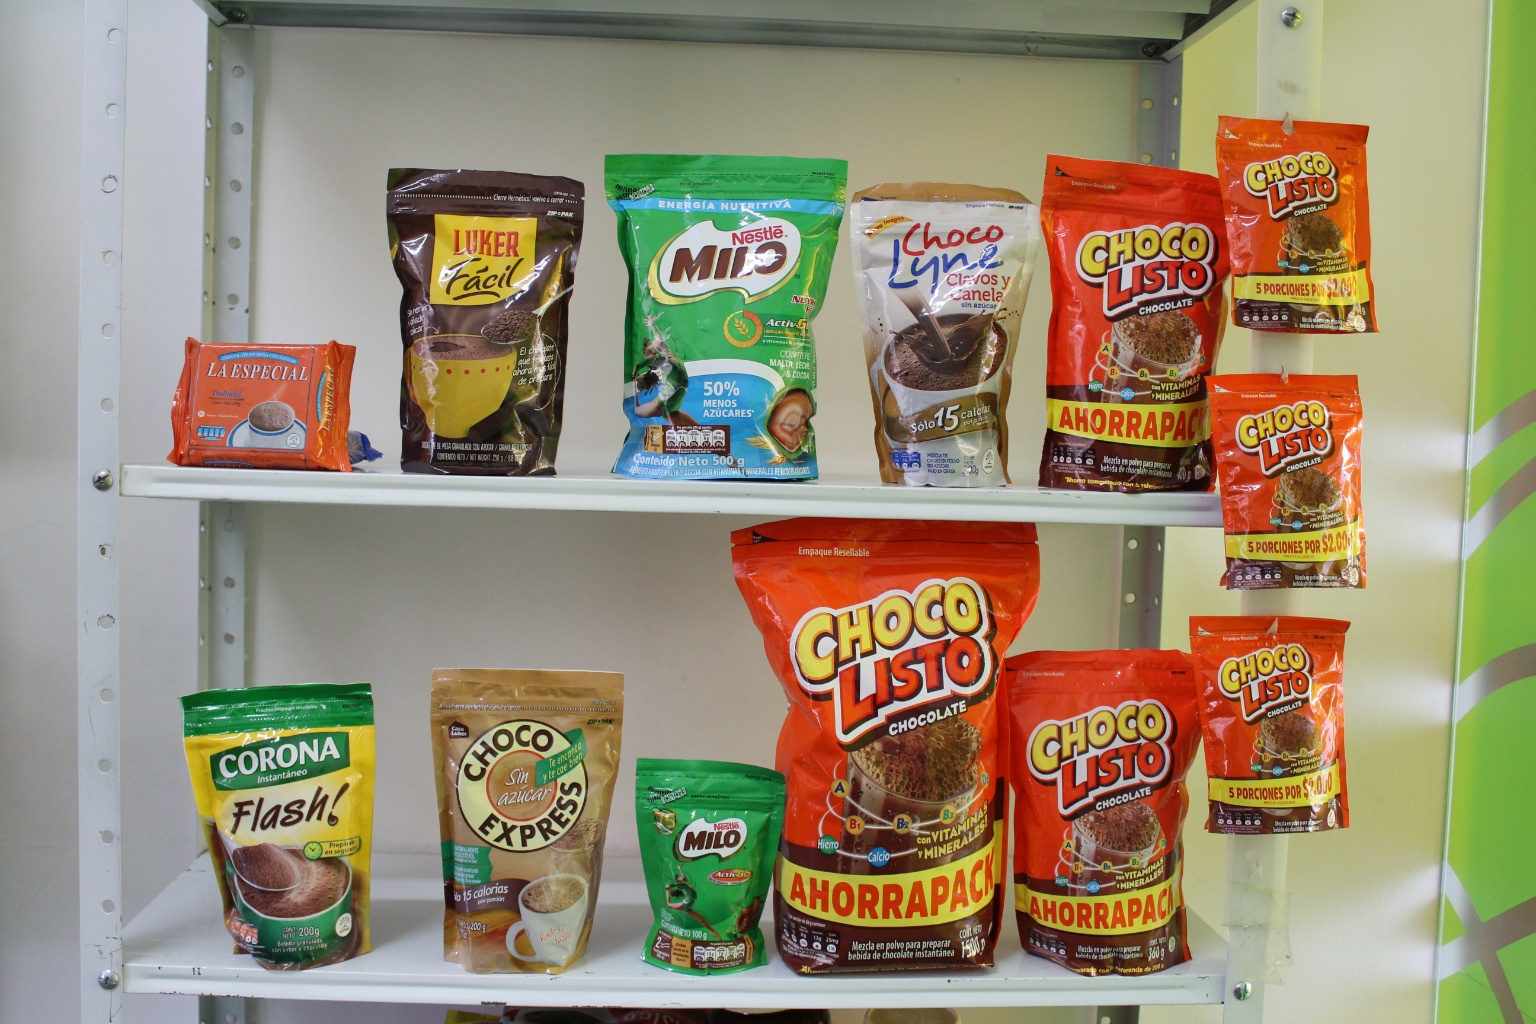COL0170103DYP1,500: (725, 513, 1046, 981)
COL0170103DYP10000: (1213, 113, 1386, 343)
COL0170103DYP36000: (997, 643, 1207, 976)
COL0170103DYP40000: (1048, 149, 1238, 498)
COL0170203DYP10000: (637, 754, 791, 976)
COL0170205DYP50000: (609, 154, 859, 485)
